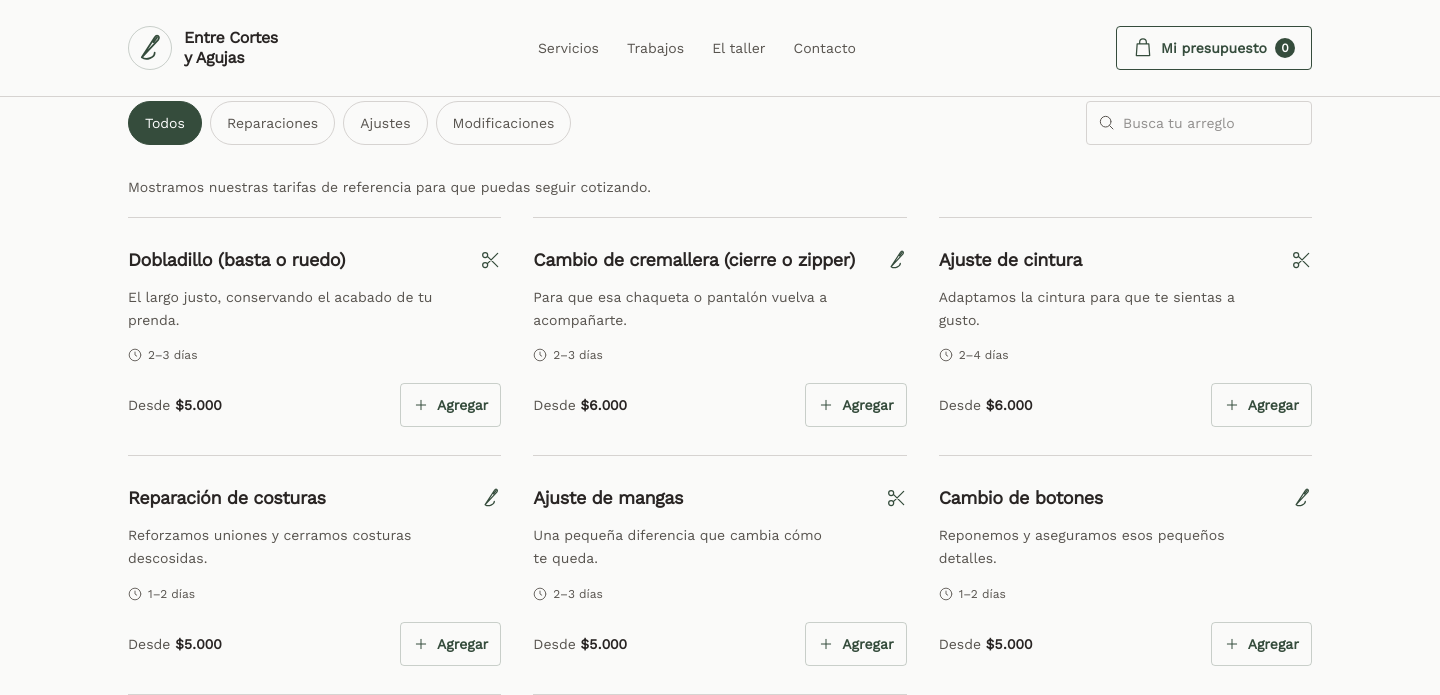
Test: workshop landing › validates the name before copying and provides the composed message
(page scrolled)
Click the button with aria-label "Agregar Dobladillo (basta o ruedo)" at (451, 405), box [400,383,501,427]
(page scrolled)
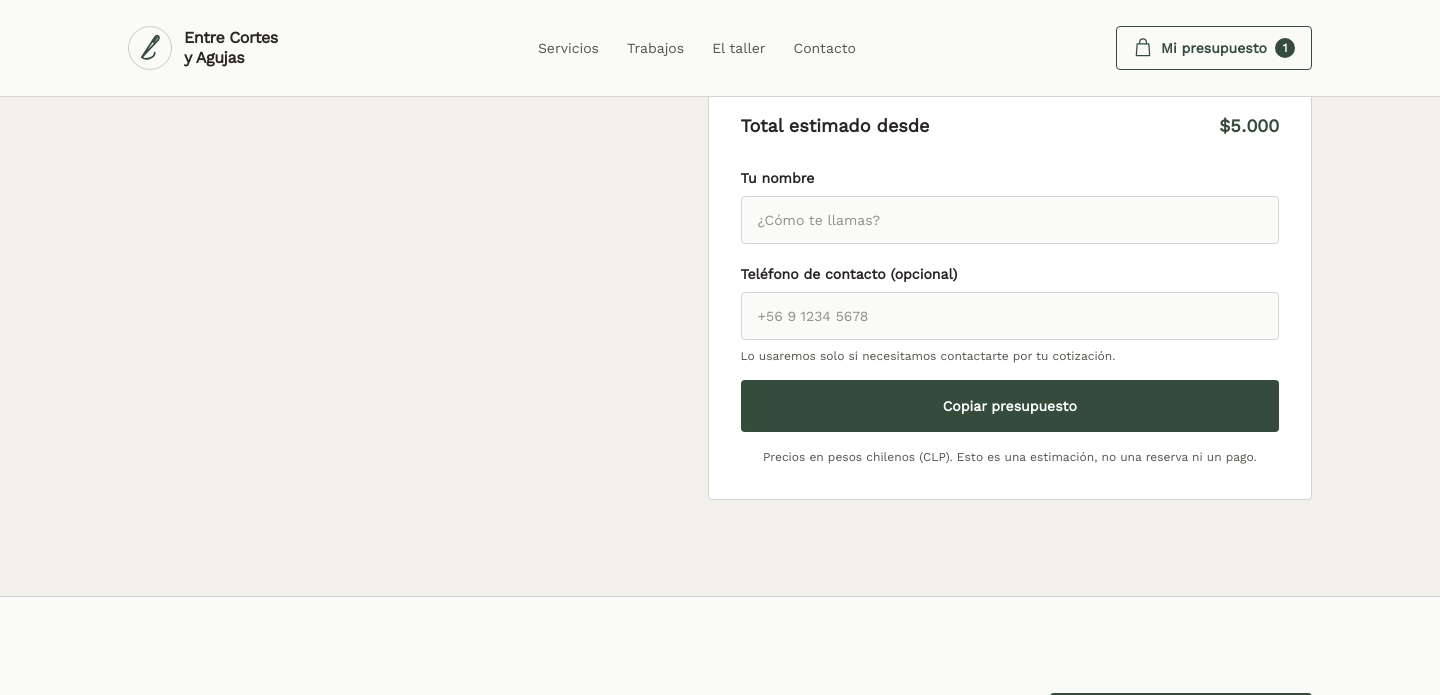
Click the button "Copiar presupuesto" at (1010, 406), box [740,380,1279,432]
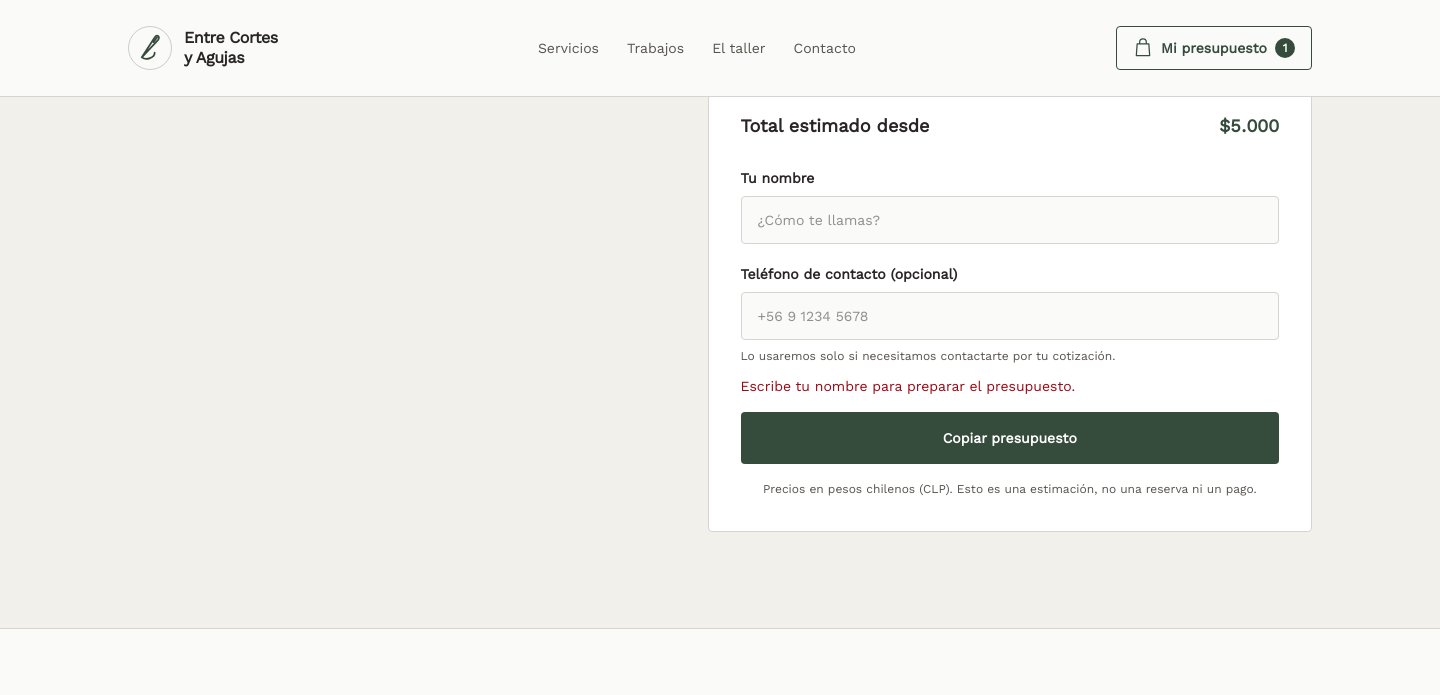
expect the text "Escribe tu nombre para preparar el presupuesto." is shown: met, box [740,378,1075,394]
Type "María" into the field labelled "Tu nombre" at (1010, 220), box [740,196,1279,244]
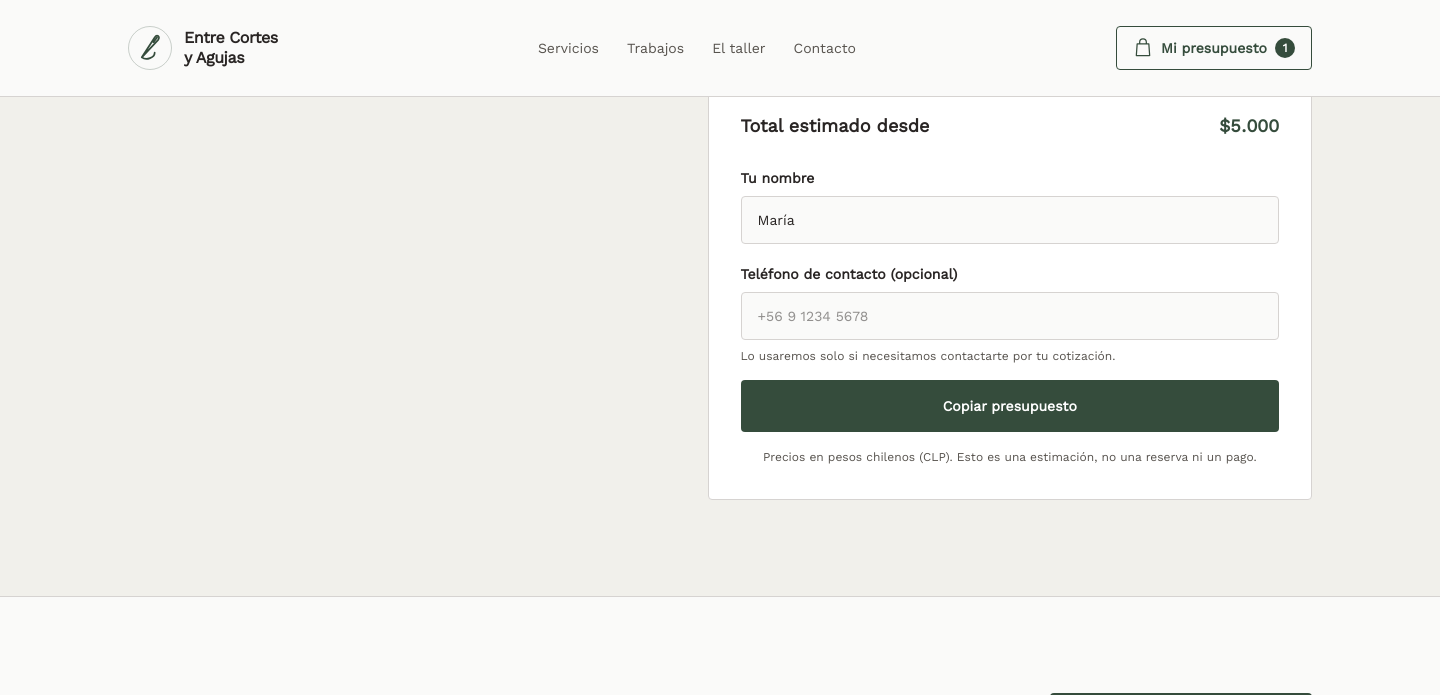
Click the button "Copiar presupuesto" at (1010, 406), box [740,380,1279,432]
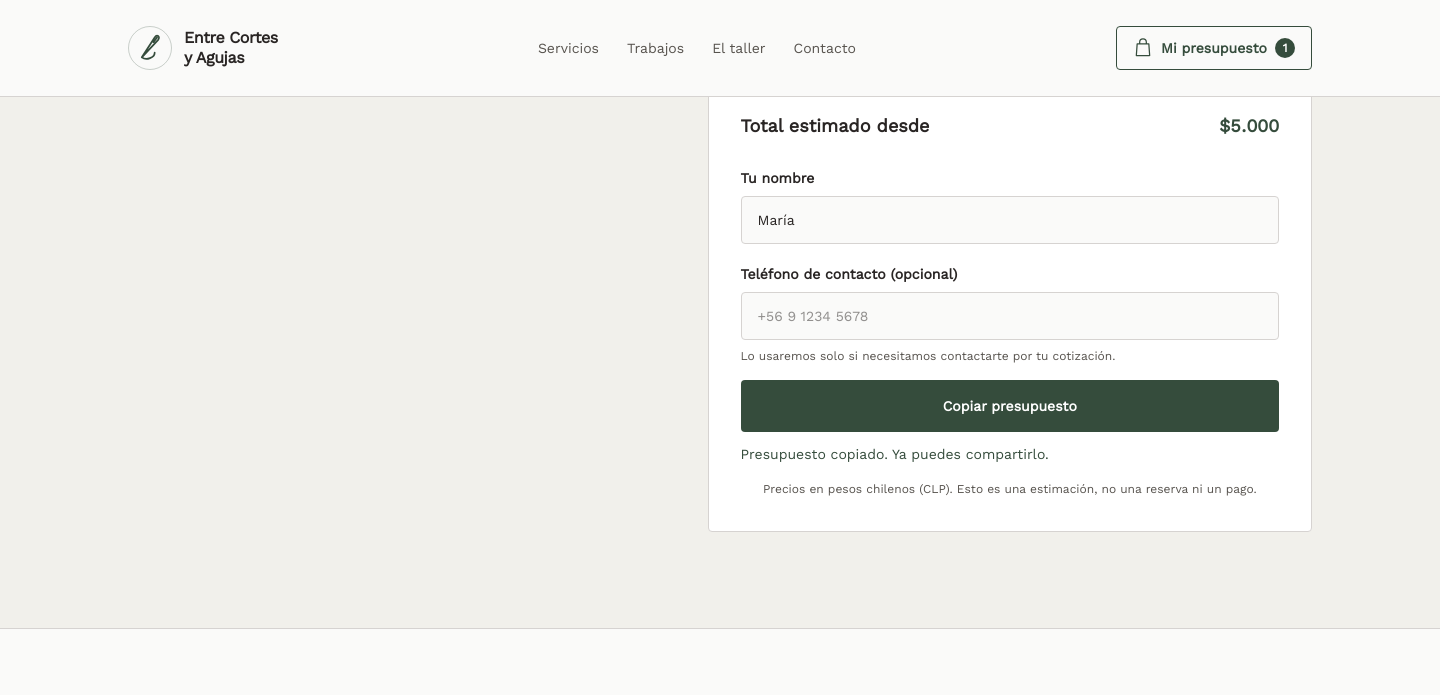
expect the text "Presupuesto copiado. Ya puedes compartirlo." is shown: met, box [740,446,1049,462]
